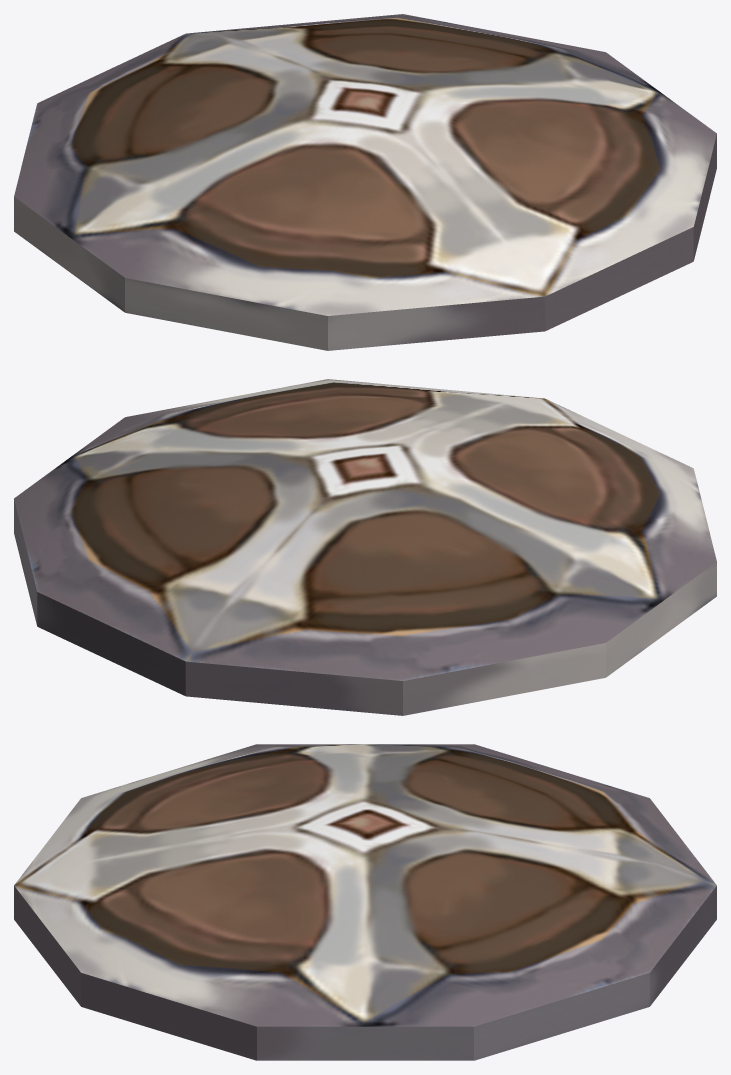
File: shield01.FBX
3 views of the same model, one above another, from view 1: azimuth 30°, elevation 25°; view 2: azimuth 150°, elevation 25°; view 3: azimuth 270°, elevation 25° (orthographic). The views are drawn at different scales.
Parts seen in each view (by area): view 1: shield01; view 2: shield01; view 3: shield01.
Boxes of the visible parts, x1,y1,x2,y2 form: shield01: (14, 14, 716, 350); shield01: (14, 379, 716, 715); shield01: (14, 744, 716, 1060).
Bounding box in the file's own units: 41.51 × 6.74 × 43.65.
1 material, 1 textured.
